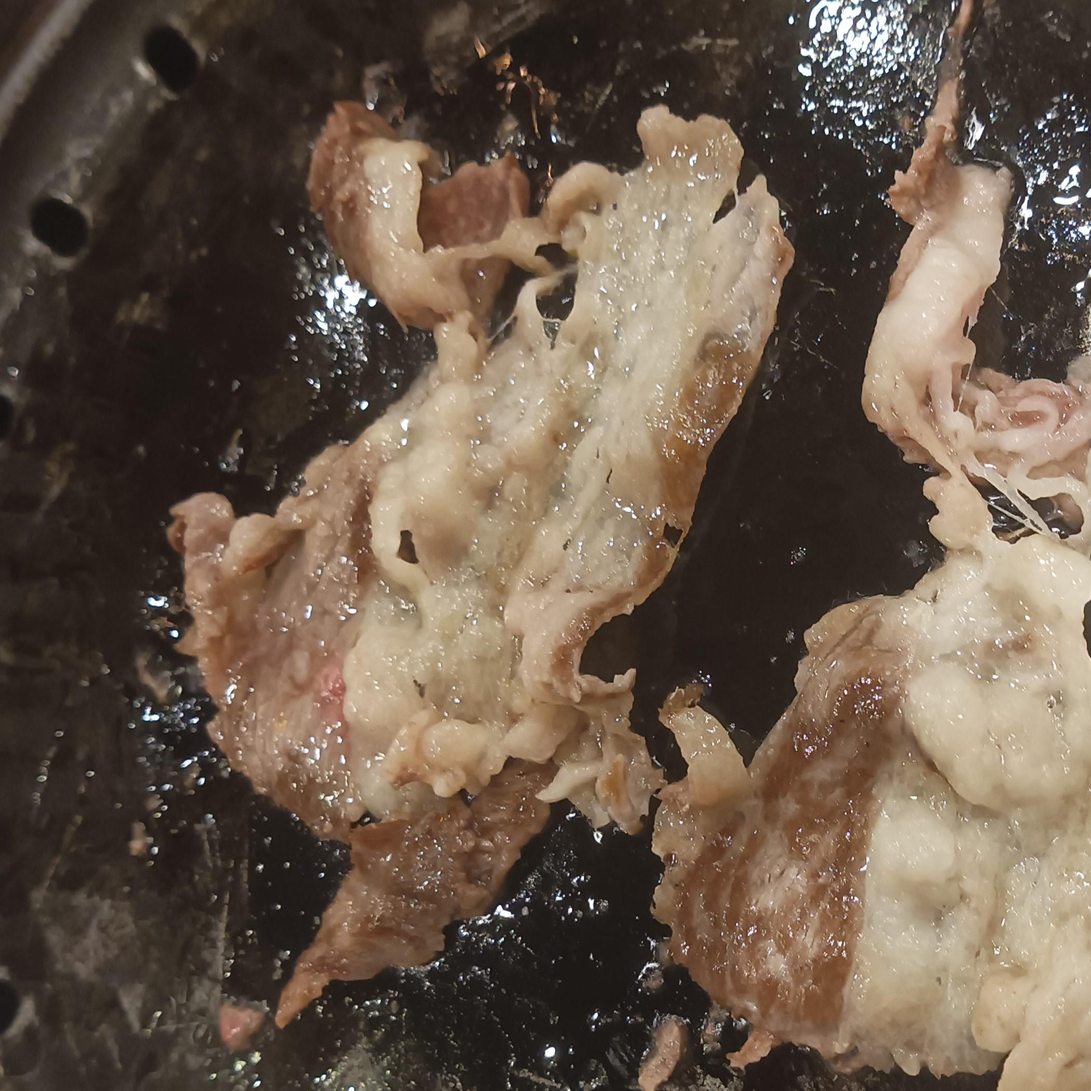Undercooked: (883, 107, 1090, 557)
Well-Cooked: (166, 105, 791, 1027), (672, 541, 1090, 1090)
